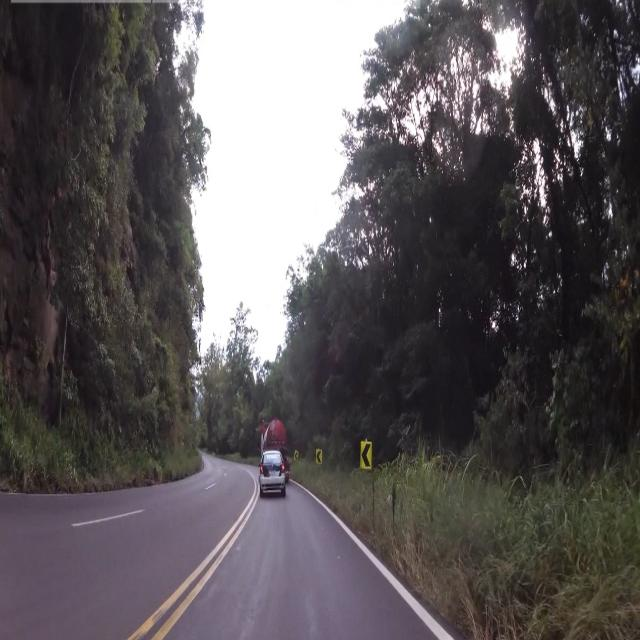Del: (360, 441, 371, 474)
